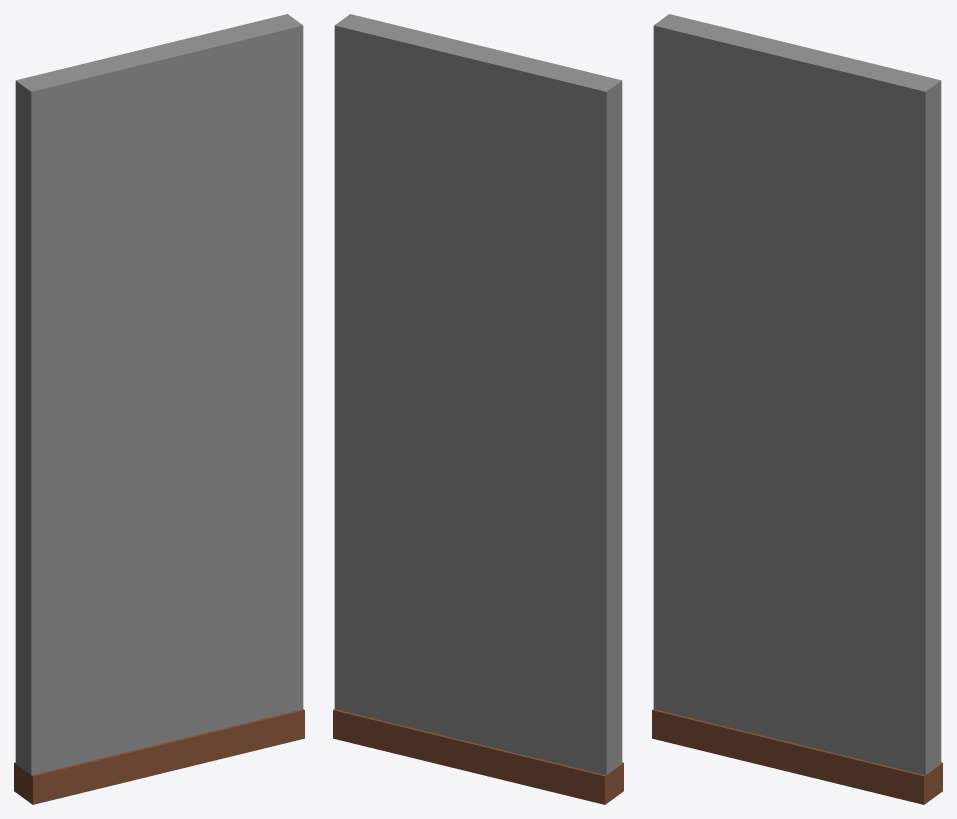
The model's file is Mur02_t1.FBX.
3 renders of one model, left to right at view 1: azimuth 30°, elevation 25°; view 2: azimuth 150°, elevation 25°; view 3: azimuth 330°, elevation 25°, orthographic.
Parts seen in each view (by area): view 1: mur 100; view 2: mur 100; view 3: mur 100.
Boxes of the visible parts, <box> form: mur 100: <box>14,14,304,804</box>; mur 100: <box>333,14,623,804</box>; mur 100: <box>652,14,942,804</box>.
Size of the model in its own units: 100 by 250 by 12.
